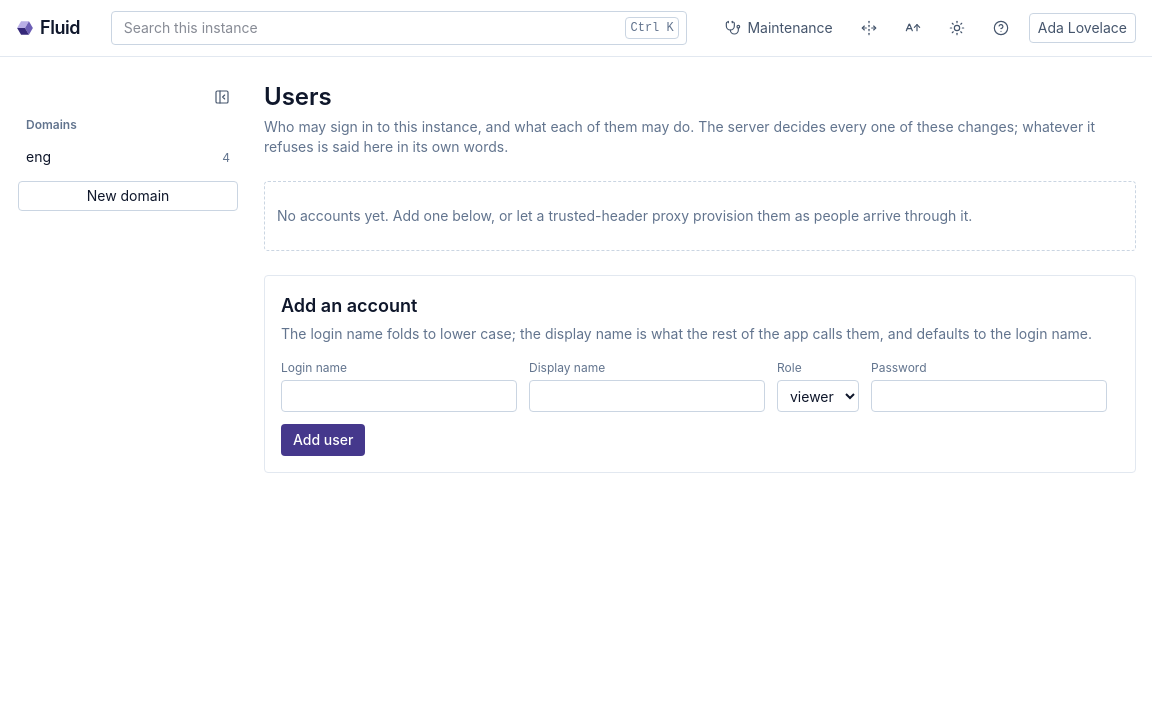
Test case: registering a domain › tells the truth about who private protects a domain from, instance admins included
Click the button "New domain" at (128, 196), box [18, 181, 238, 211]
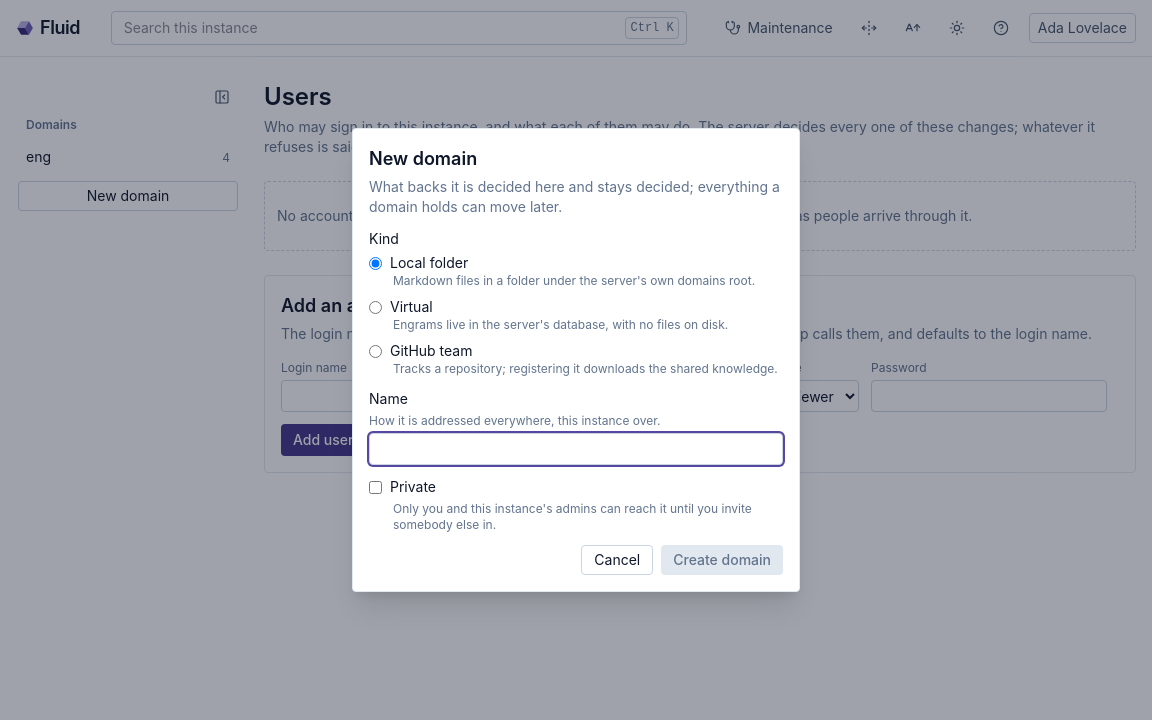
Expected: the text "Only you and this instance's admins can reach it until you invite somebody else in." is shown, [393, 501, 752, 532]
